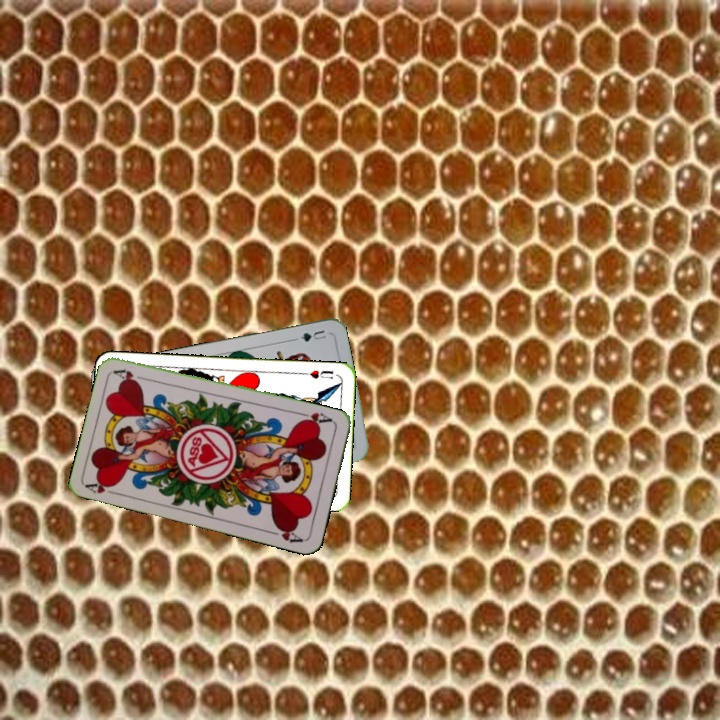GU: (296, 326, 329, 345)
HA: (83, 476, 123, 498), (295, 408, 336, 428)
HU: (299, 366, 336, 381)
